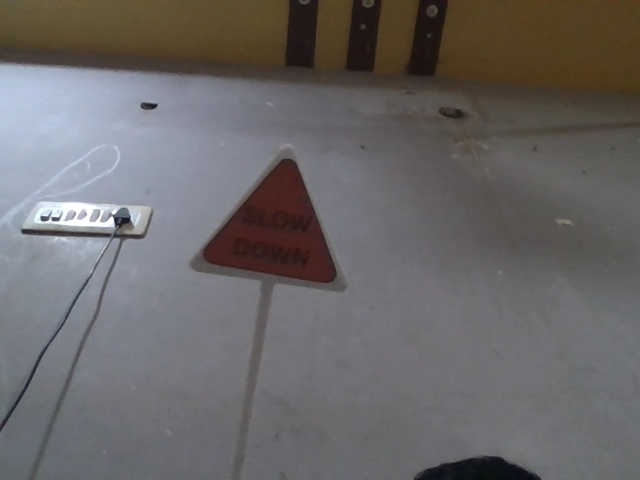slowdown: (186, 147, 348, 297)
